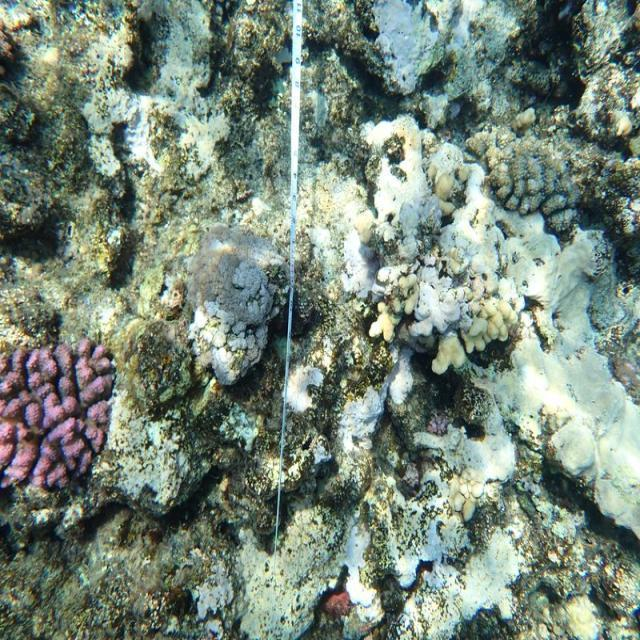Bleached Coral: (317, 152, 537, 338), (536, 215, 640, 585), (356, 483, 559, 638), (178, 251, 308, 398), (142, 0, 225, 181), (319, 353, 432, 464), (80, 80, 174, 178)
Healthy Coral: (7, 327, 102, 510)
